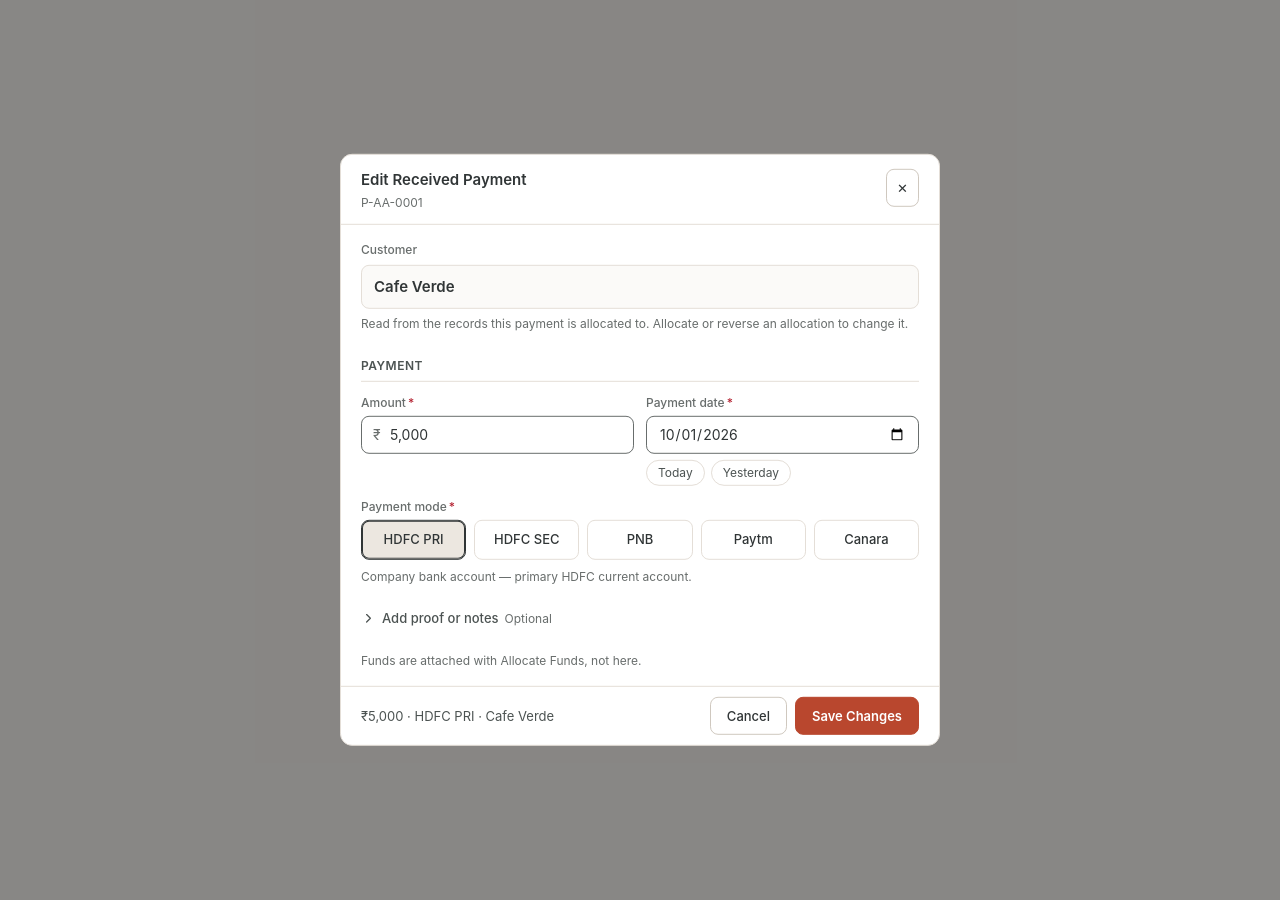
Scenario: Edit Received Payment › proof and notes are closed until wanted; the backdrop is inert; Escape closes
Click the button "Add proof or notes Optional".
click(456, 618)  # box [361,609,552,628]
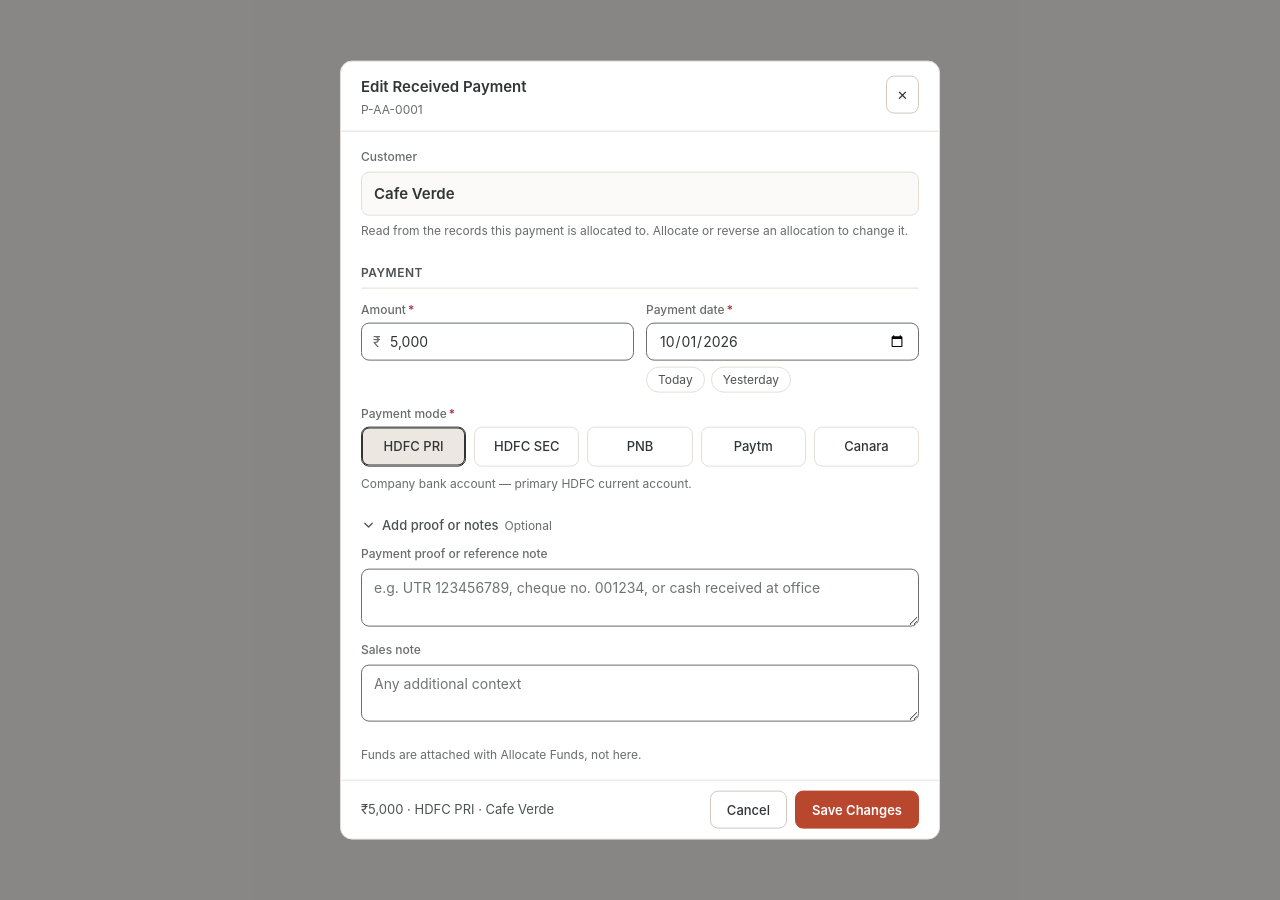
expect the text "Sales note" is shown: met, box [361,641,421,656]
